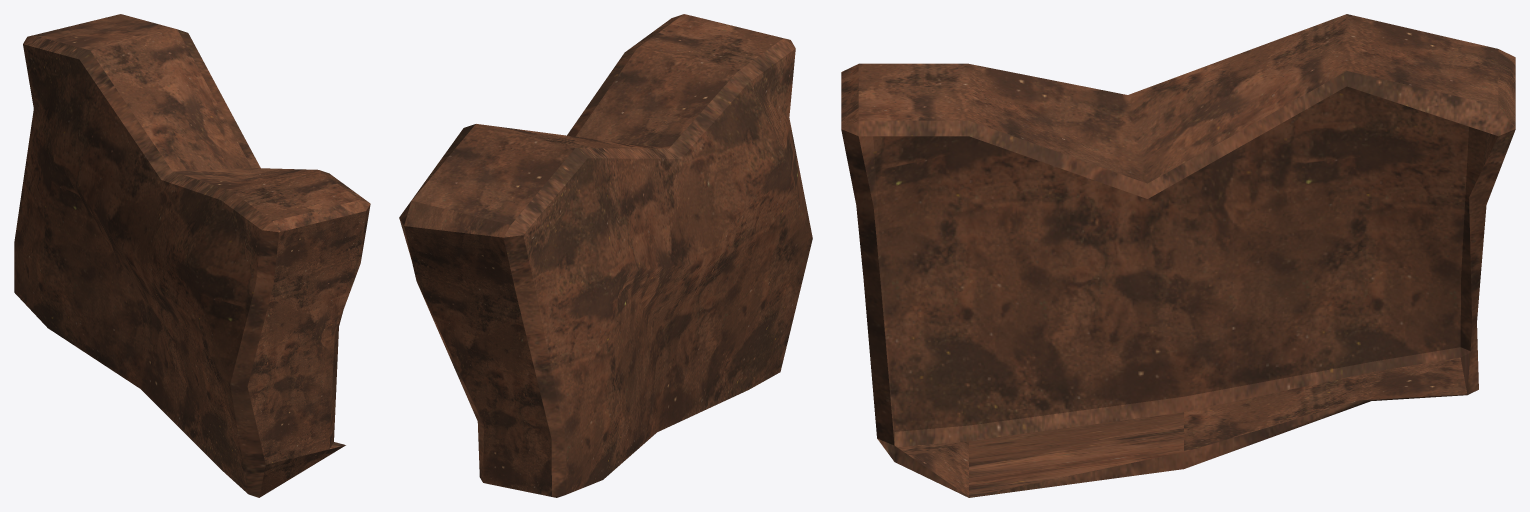
The model's file is SpaceRock1Final.fbx.
3 renders of one model, left to right at view 1: azimuth 30°, elevation 25°; view 2: azimuth 150°, elevation 25°; view 3: azimuth 270°, elevation 25°, orthographic. The views are drawn at different scales.
Parts seen in each view (by area): view 1: Rock2; view 2: Rock2; view 3: Rock2.
Boxes of the visible parts, x1,y1,x2,y2 form: Rock2: [14, 14, 370, 497]; Rock2: [399, 14, 812, 497]; Rock2: [841, 14, 1515, 497].
Bounding box in the file's own units: 5.06 × 11.23 × 15.83.
